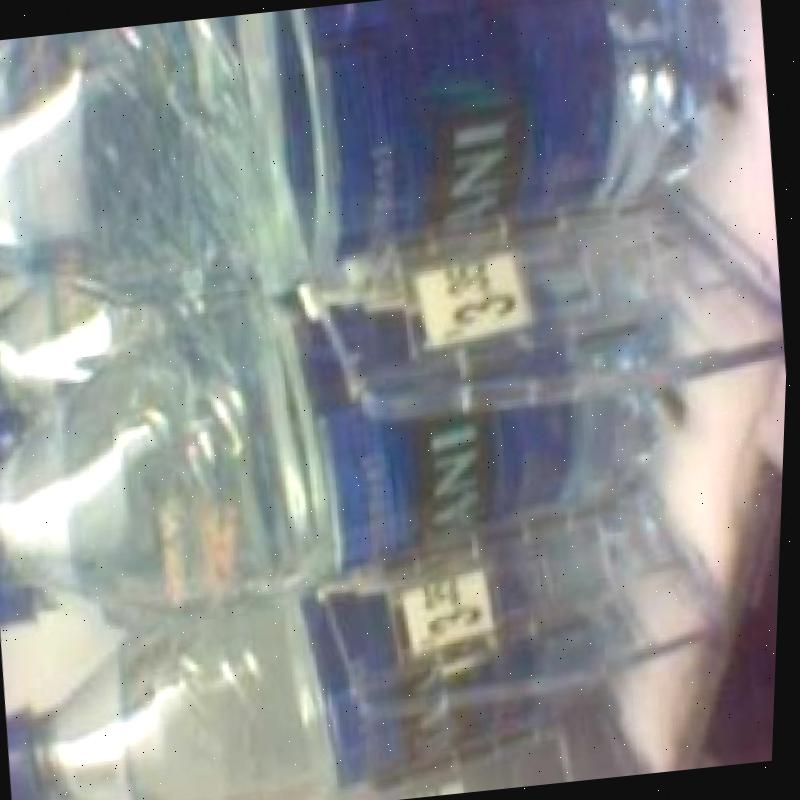botella: (0, 249, 676, 629), (0, 0, 741, 321), (0, 513, 650, 800), (0, 267, 180, 417), (0, 574, 168, 647)
